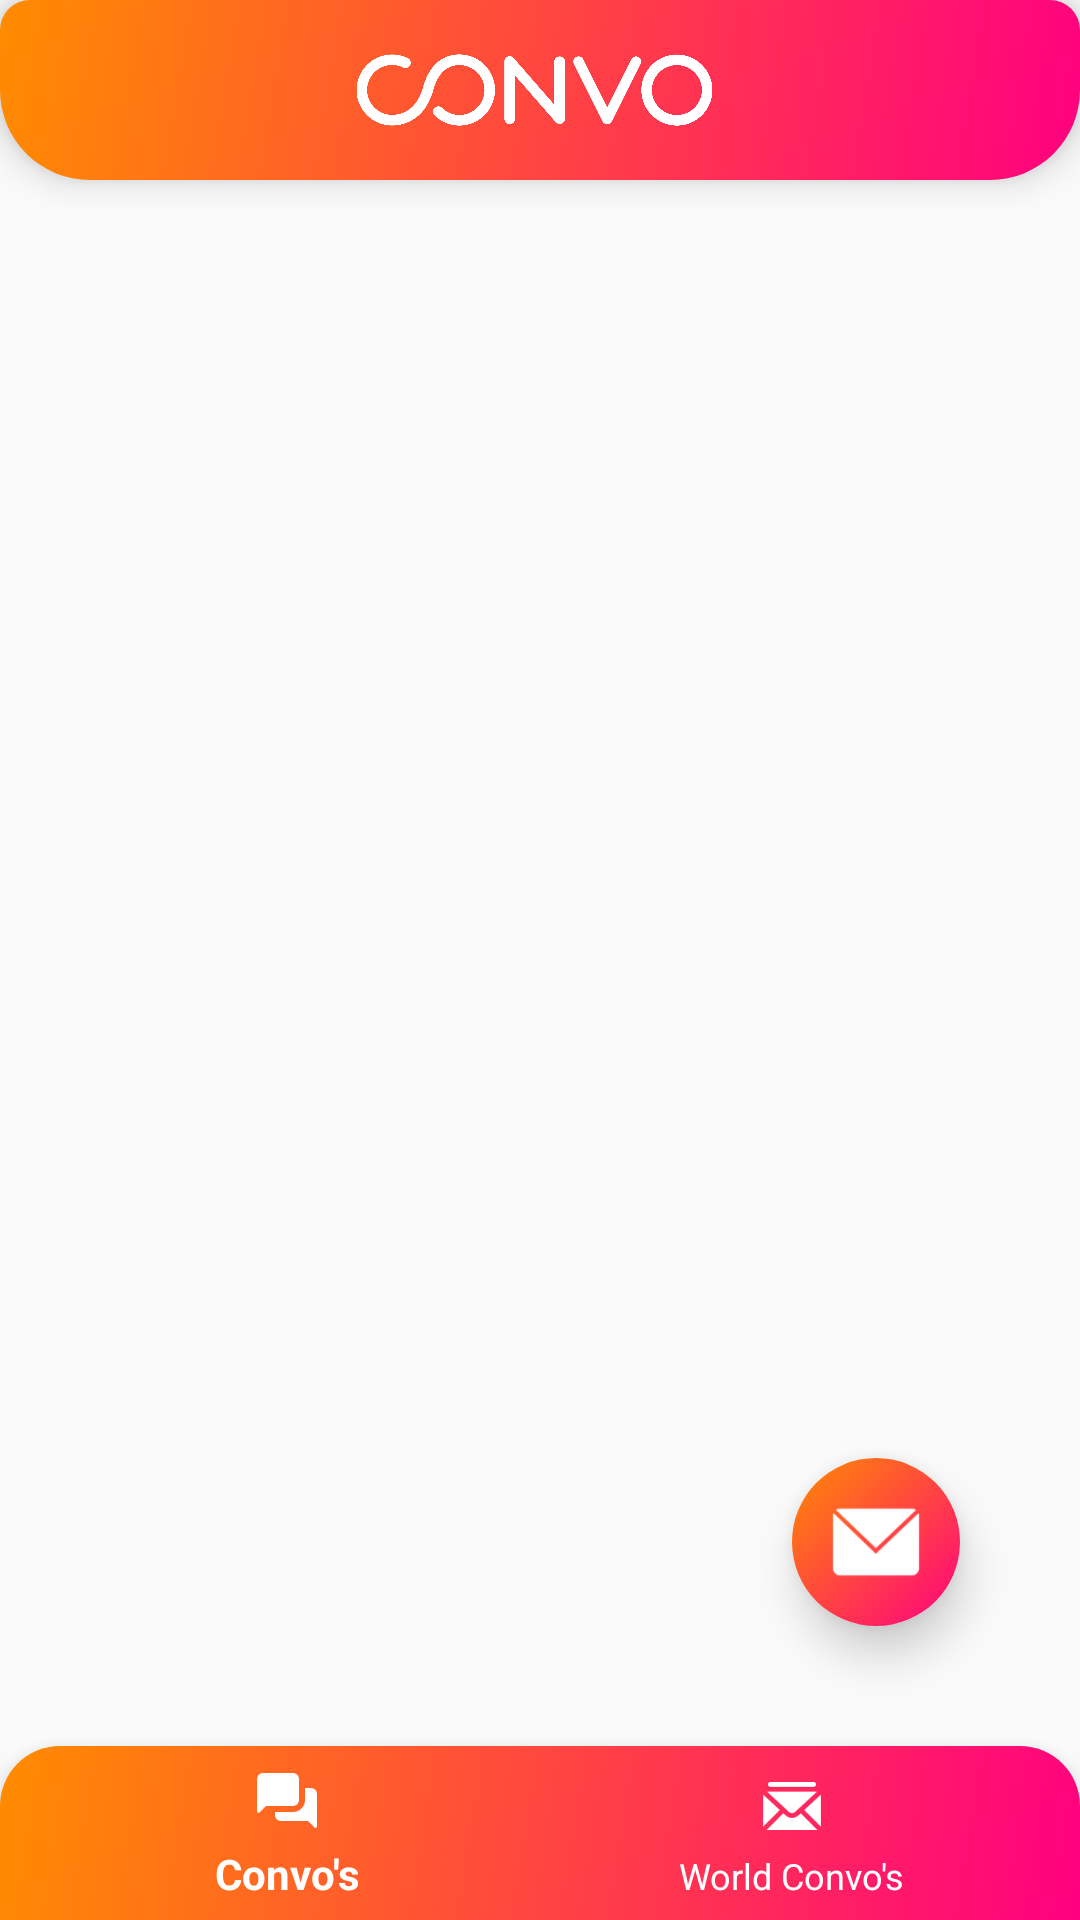

Named icons in this screenshot (1080px×1920px) and their centers, (x=x, y=y):
gradientfab: (x=876, y=1542)
